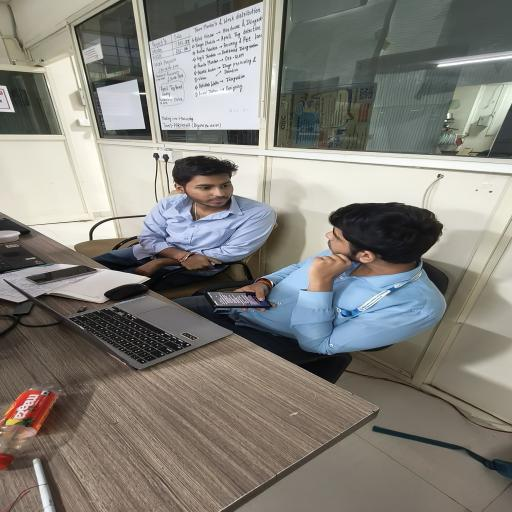survivor: (172, 202, 446, 365), (91, 156, 277, 292)
